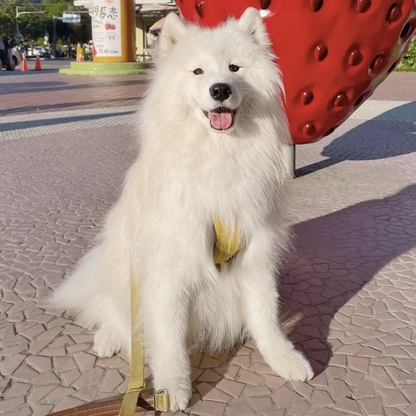samoyed: (42, 5, 322, 416)
